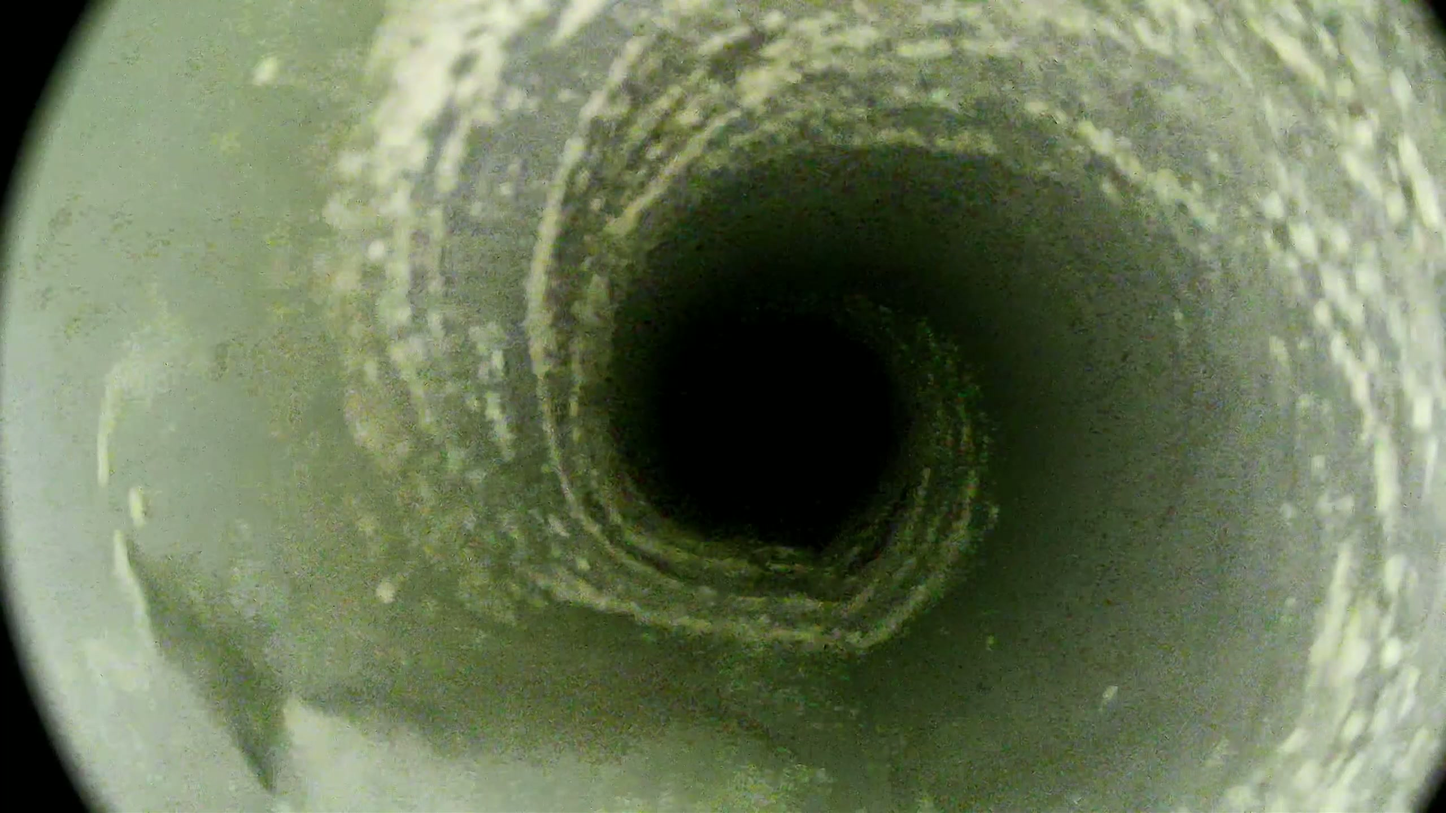hole: (670, 318, 888, 530)
